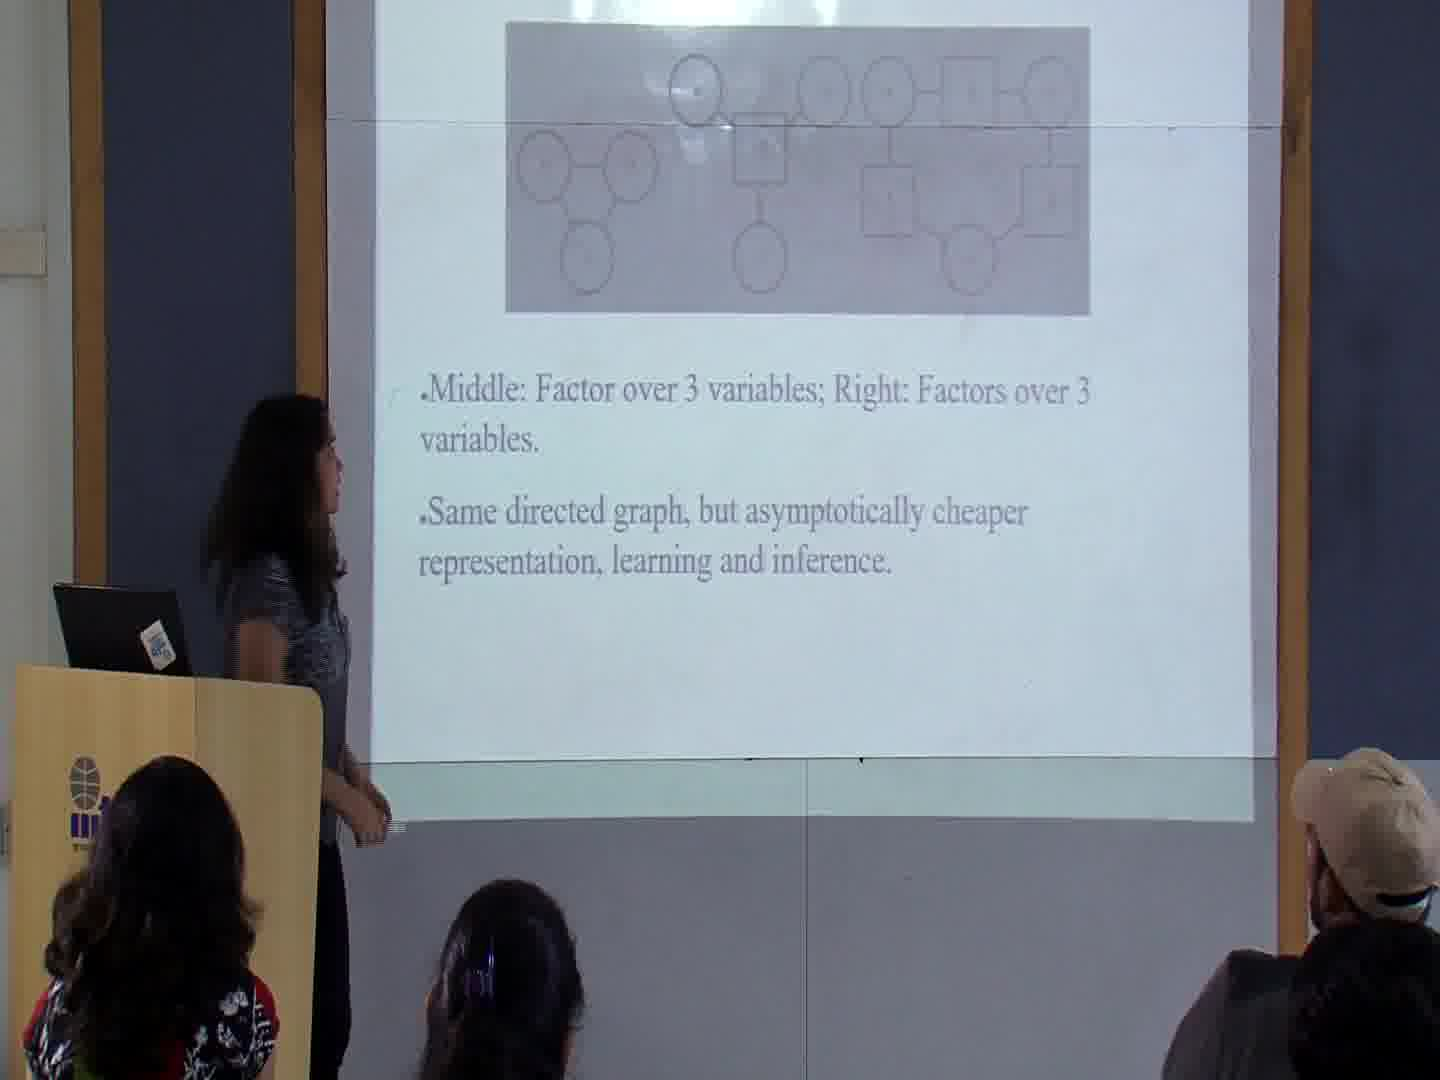slide: (372, 1, 1256, 824)
